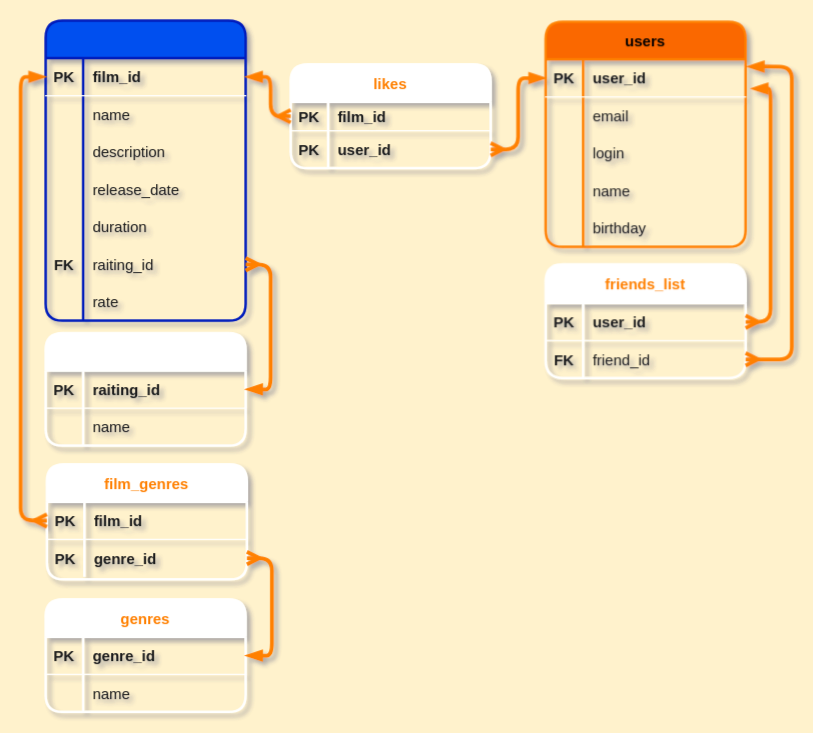
Image size: 813x733. Some labels were removed from this diagram. The shapes that lost their labels are listed below. From the top down, each one's box as (x1, y1, x2, y2) in pixels, then its label:
(44, 19, 246, 321): films
(44, 331, 246, 446): mpa_raiting
